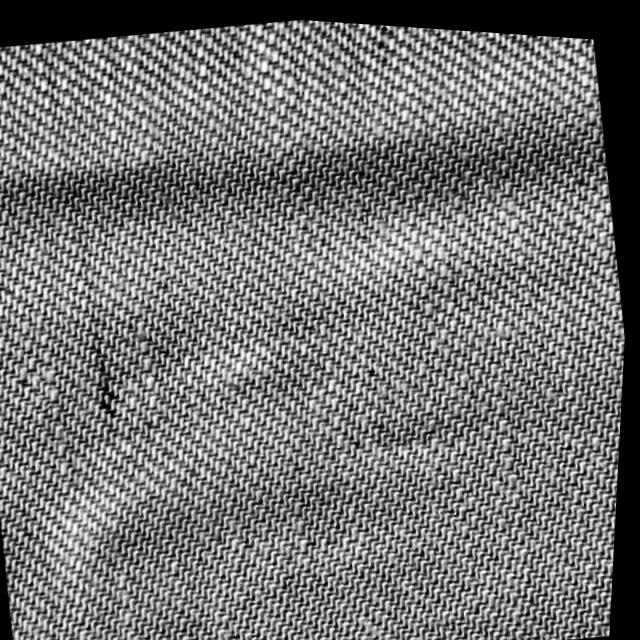Hole: (74, 333, 137, 426)
